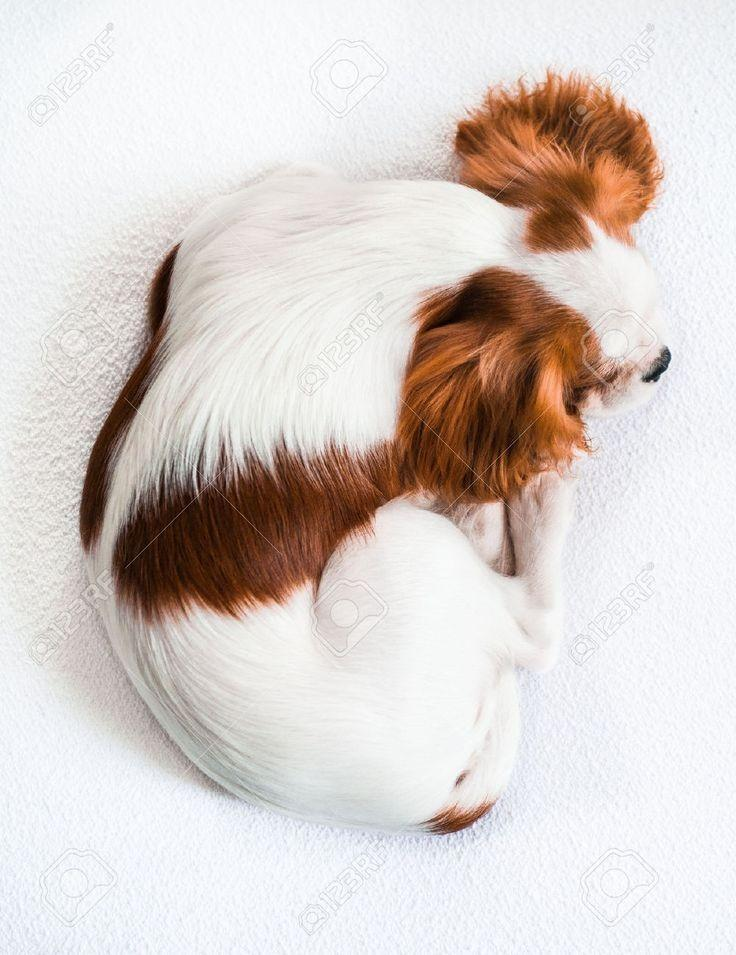puppy-dog: (74, 71, 676, 837)
